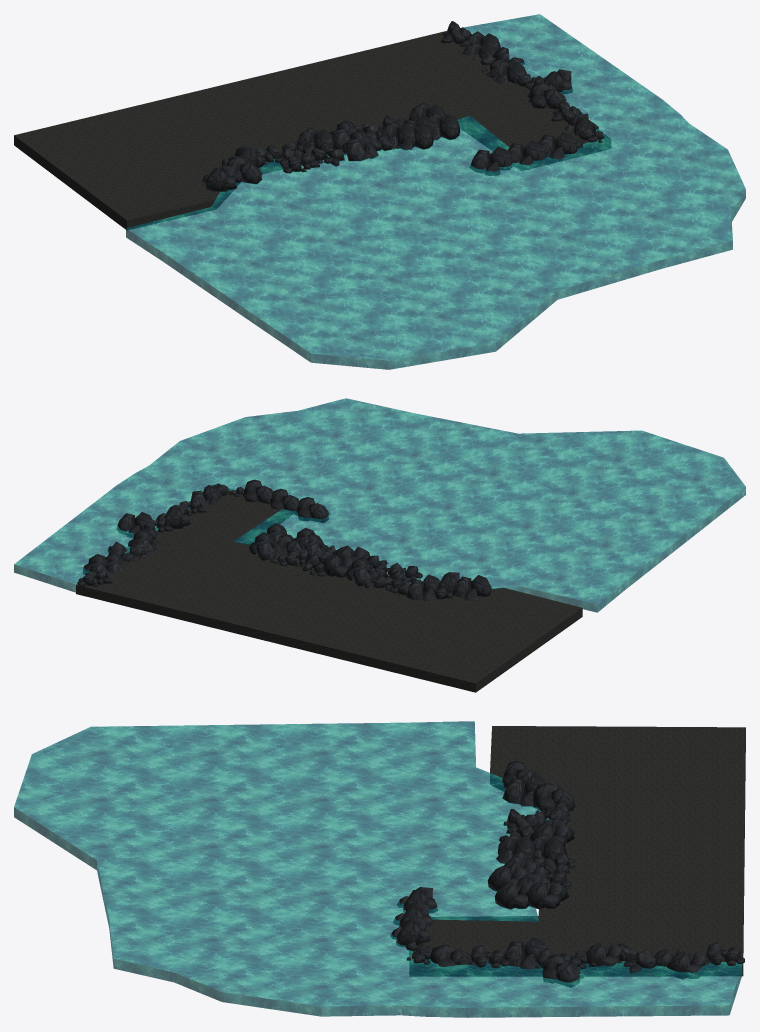
Rendered from NewWaterfallBottom.gltf.
3 renders of one model, top to bottom at view 1: azimuth 30°, elevation 25°; view 2: azimuth 150°, elevation 25°; view 3: azimuth 270°, elevation 25°, orthographic. The views are drawn at different scales.
Parts seen in each view (by area): view 1: Water, NewFloor, P_PROP_debris_stones_dungeon_04 (18), P_PROP_debris_stones_dungeon_04 (17), P_PROP_debris_stones_dungeon_04 (8), P_PROP_debris_stones_dungeon_04 (2), P_PROP_debris_stones_dungeon_04 (10), P_PROP_debris_stones_dungeon_04 (6), P_PROP_debris_stones_dungeon_04 (16), P_PROP_debris_stones_dungeon_04 (4), P_PROP_debris_stones_dungeon_04 (7), P_PROP_debris_stones_dungeon_04 (+1 smaller); view 2: Water, NewFloor, P_PROP_debris_stones_dungeon_04 (6), P_PROP_debris_stones_dungeon_04 (15), P_PROP_debris_stones_dungeon_04 (18), P_PROP_debris_stones_dungeon_04 (3), P_PROP_debris_stones_dungeon_04 (4), P_PROP_debris_stones_dungeon_04 (14), P_PROP_debris_stones_dungeon_03 (8), P_PROP_debris_stones_dungeon_04 (5), P_PROP_debris_stones_dungeon_04 (8), P_PROP_debris_stones_dungeon_04 (17) (+1 smaller); view 3: Water, NewFloor, P_PROP_debris_stones_dungeon_04 (10), P_PROP_debris_stones_dungeon_04 (14), P_PROP_debris_stones_dungeon_04 (3), P_PROP_debris_stones_dungeon_04 (13), P_PROP_debris_stones_dungeon_04 (16), P_PROP_debris_stones_dungeon_04 (15), P_PROP_debris_stones_dungeon_04 (8), P_PROP_debris_stones_dungeon_03 (8), P_PROP_debris_stones_dungeon_04 (9), P_PROP_debris_stones_dungeon_04 (+10 smaller).
Boxes of the visible parts, <box> form: Water: <box>126,14,745,369</box>; NewFloor: <box>14,31,610,229</box>; P_PROP_debris_stones_dungeon_04 (18): <box>470,146,512,175</box>; P_PROP_debris_stones_dungeon_04 (17): <box>507,140,546,169</box>; P_PROP_debris_stones_dungeon_04 (8): <box>539,132,577,161</box>; P_PROP_debris_stones_dungeon_04 (2): <box>342,130,378,160</box>; P_PROP_debris_stones_dungeon_04 (10): <box>528,82,566,109</box>; P_PROP_debris_stones_dungeon_04 (6): <box>202,165,236,191</box>; P_PROP_debris_stones_dungeon_04 (16): <box>226,156,262,183</box>; P_PROP_debris_stones_dungeon_04 (4): <box>296,127,334,154</box>; P_PROP_debris_stones_dungeon_04 (7): <box>380,121,415,149</box>; P_PROP_debris_stones_dungeon_04: <box>428,112,460,140</box>; Water: <box>14,398,745,612</box>; NewFloor: <box>76,485,582,692</box>; P_PROP_debris_stones_dungeon_04 (6): <box>456,575,491,600</box>; P_PROP_debris_stones_dungeon_04 (15): <box>406,574,440,601</box>; P_PROP_debris_stones_dungeon_04 (18): <box>296,497,329,522</box>; P_PROP_debris_stones_dungeon_04 (3): <box>249,532,281,560</box>; P_PROP_debris_stones_dungeon_04 (4): <box>345,558,377,586</box>; P_PROP_debris_stones_dungeon_04 (14): <box>117,512,153,537</box>; P_PROP_debris_stones_dungeon_03 (8): <box>108,541,152,562</box>; P_PROP_debris_stones_dungeon_04 (5): <box>322,554,355,577</box>; P_PROP_debris_stones_dungeon_04 (8): <box>243,479,273,503</box>; P_PROP_debris_stones_dungeon_04 (17): <box>270,488,299,514</box>; Water: <box>14,721,742,1017</box>; NewFloor: <box>409,726,745,976</box>; P_PROP_debris_stones_dungeon_04 (10): <box>504,937,547,969</box>; P_PROP_debris_stones_dungeon_04 (14): <box>542,954,583,987</box>; P_PROP_debris_stones_dungeon_04 (3): <box>525,881,568,909</box>; P_PROP_debris_stones_dungeon_04 (13): <box>667,951,709,978</box>; P_PROP_debris_stones_dungeon_04 (16): <box>502,774,546,806</box>; P_PROP_debris_stones_dungeon_04 (15): <box>533,783,575,811</box>; P_PROP_debris_stones_dungeon_04 (8): <box>391,918,430,946</box>; P_PROP_debris_stones_dungeon_03 (8): <box>617,943,656,975</box>; P_PROP_debris_stones_dungeon_04 (9): <box>430,944,471,973</box>; P_PROP_debris_stones_dungeon_04: <box>494,881,531,909</box>.
Bounding box in the file's own units: 31.07 × 1.63 × 33.53.
Materials: 3 (3 with a texture image).
